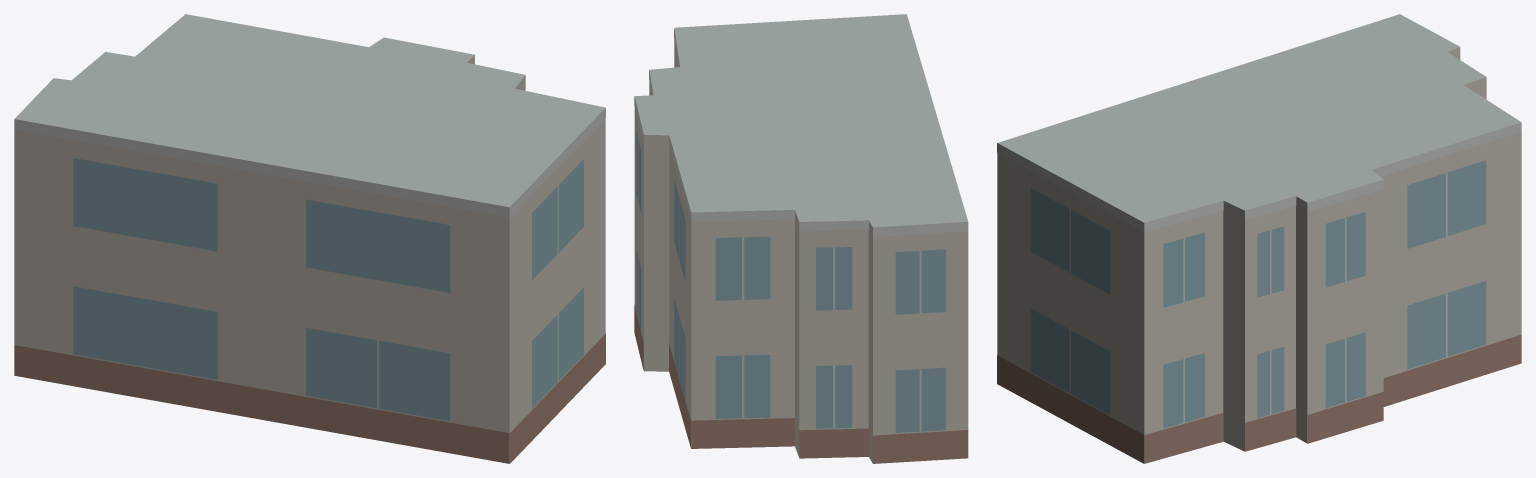
File: survey-upis-32502465.glb
3 views of the same model, side by side, from view 1: azimuth 30°, elevation 25°; view 2: azimuth 150°, elevation 25°; view 3: azimuth 270°, elevation 25° (orthographic). The views are drawn at different scales.
Parts seen in each view (by area): view 1: survey-upis-32502465.tmp; view 2: survey-upis-32502465.tmp; view 3: survey-upis-32502465.tmp.
Part boxes in pixels (bbox=[...]): survey-upis-32502465.tmp: bbox=[14, 14, 605, 463]; survey-upis-32502465.tmp: bbox=[634, 14, 968, 463]; survey-upis-32502465.tmp: bbox=[997, 14, 1521, 463].
Bounding box in the file's own units: 11.34 × 6.1 × 12.04.
